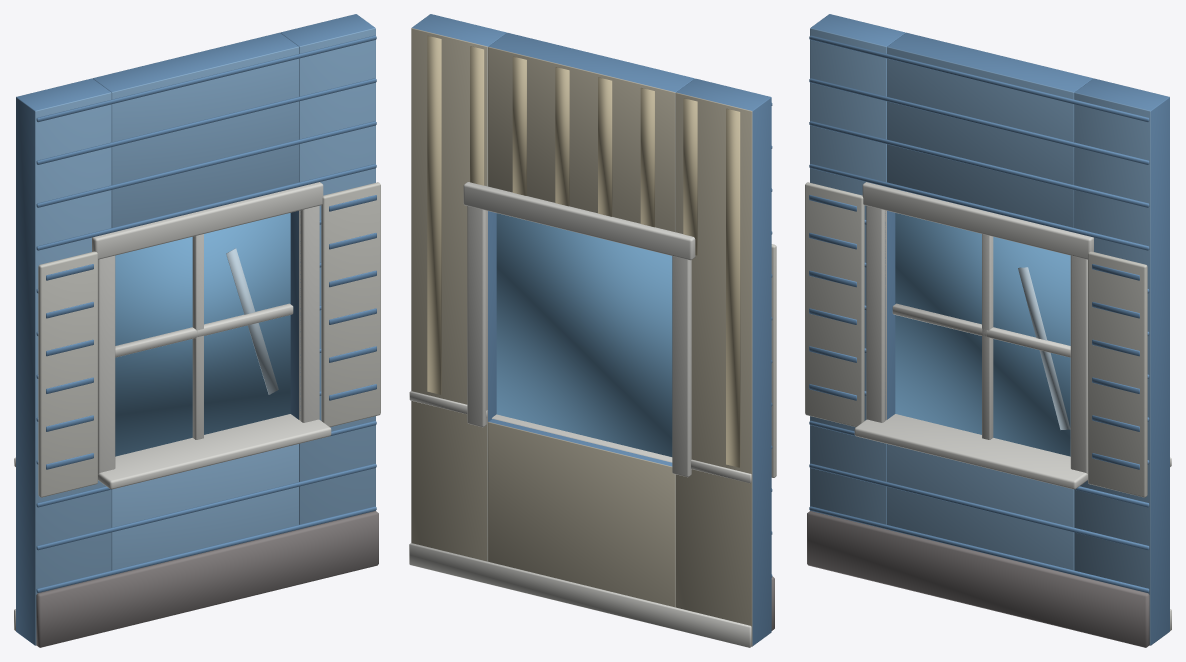
The model's file is wall_window_blue.glb.
The picture shows the model from 3 angles, left to right: view 1: azimuth 30°, elevation 25°; view 2: azimuth 150°, elevation 25°; view 3: azimuth 330°, elevation 25°; orthographic projection.
Parts seen in each view (by area): view 1: wall_window_blue; view 2: wall_window_blue; view 3: wall_window_blue.
Boxes of the visible parts, left/top/right/bottom form: wall_window_blue: left=14, top=14, right=380, bottom=647; wall_window_blue: left=409, top=14, right=776, bottom=647; wall_window_blue: left=805, top=14, right=1171, bottom=647.
Bounding box in the file's own units: 2 × 3 × 0.405.
